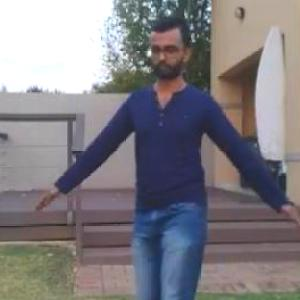land: (68, 29, 299, 299)
